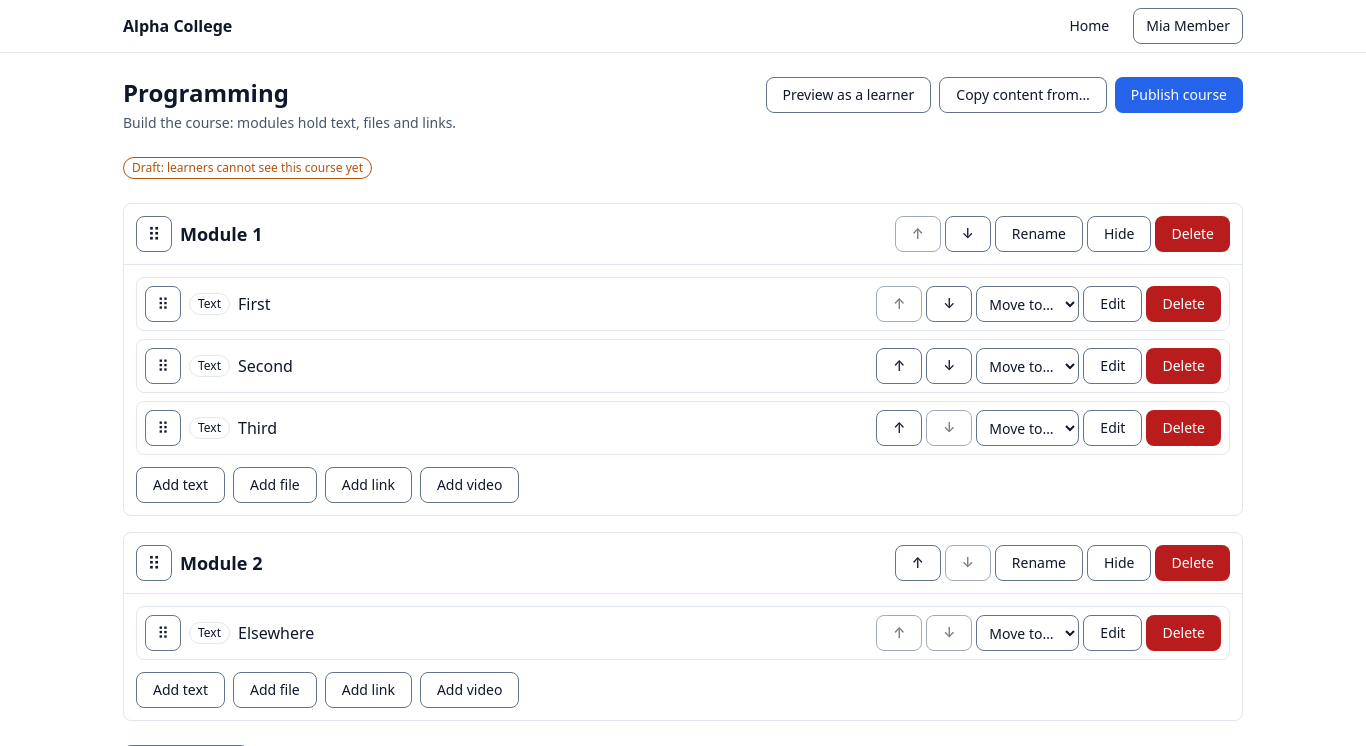
Test: the builder › puts the order back and says why when the server refuses a move
Expected: the heading "Module 1" is shown, [180, 222, 262, 246]
Click the button named "Move Third up" at (899, 428), box [876, 410, 922, 446]
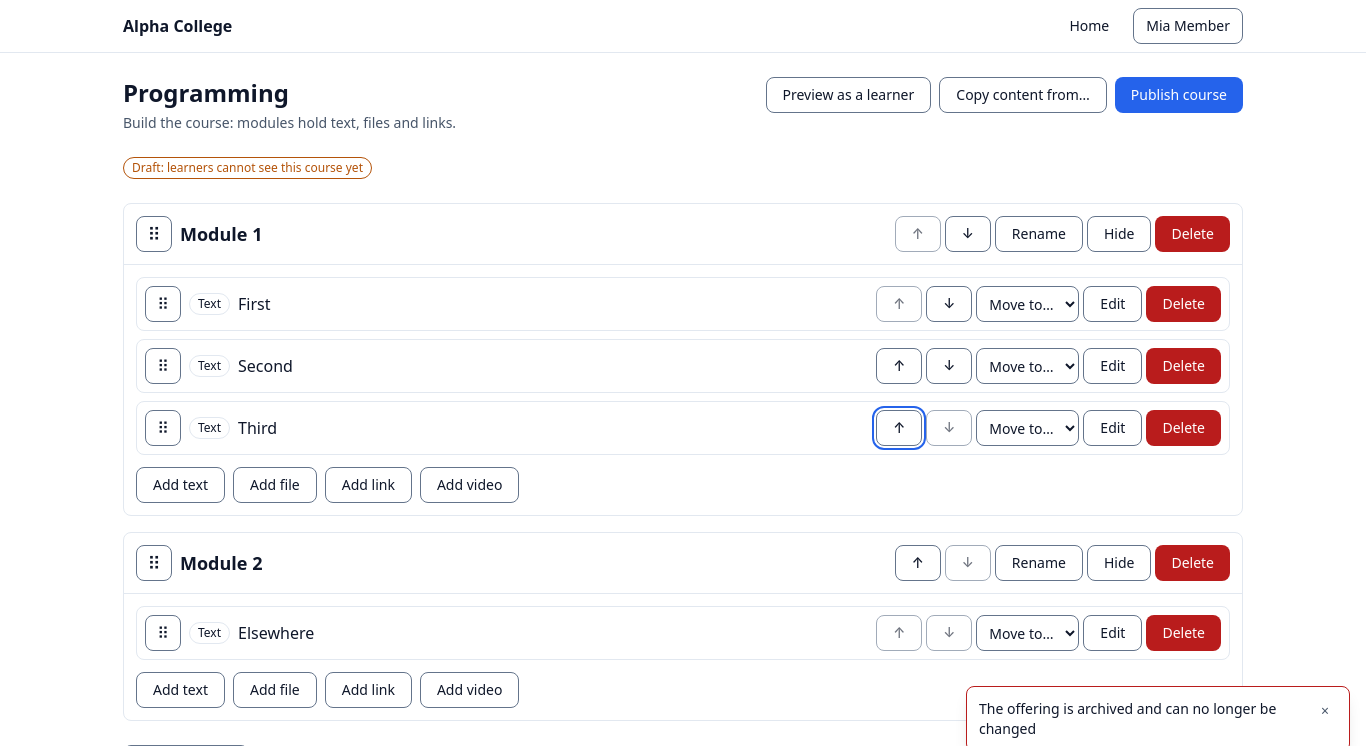
Expected: the text "The offering is archived and can no longer be changed" is shown, [979, 699, 1301, 739]
